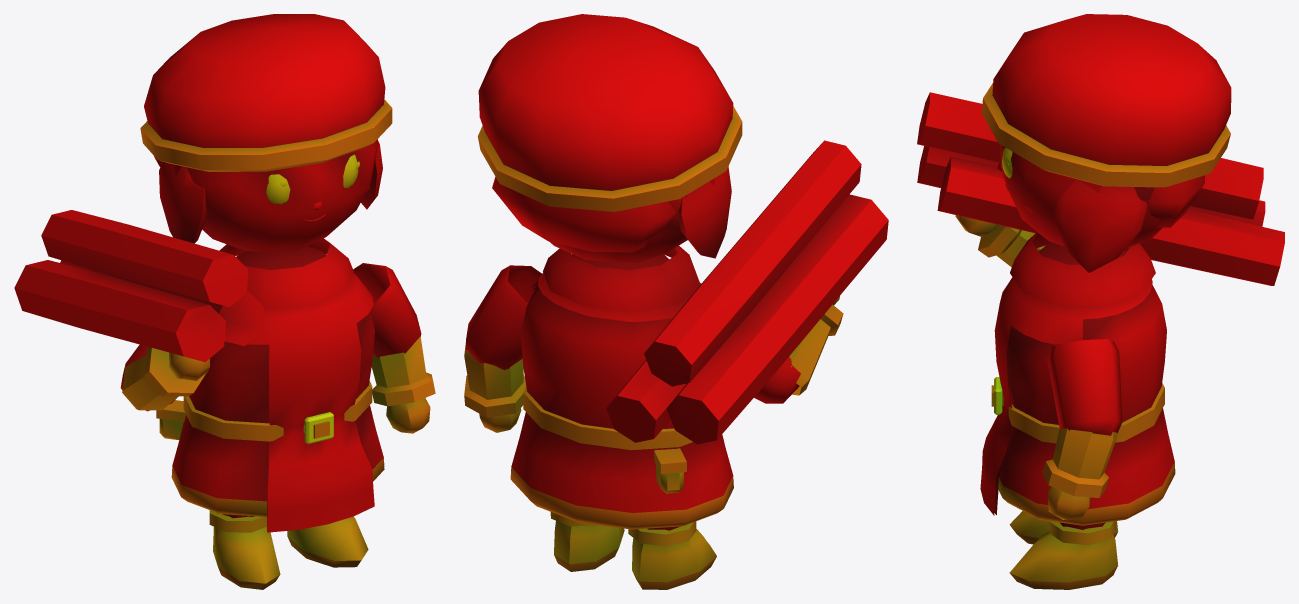
The model's file is Villager_carry_wood.glb.
3 views of the same model, side by side, from view 1: azimuth 30°, elevation 25°; view 2: azimuth 150°, elevation 25°; view 3: azimuth 270°, elevation 25° (orthographic). The views are drawn at different scales.
Parts seen in each view (by area): view 1: Villager_carry_wood; view 2: Villager_carry_wood; view 3: Villager_carry_wood.
Boxes of the visible parts, bbox=[...] form: Villager_carry_wood: bbox=[14, 14, 435, 589]; Villager_carry_wood: bbox=[464, 14, 888, 589]; Villager_carry_wood: bbox=[917, 14, 1284, 589].
Bounding box in the file's own units: 0.573 × 0.8425 × 0.5346.
